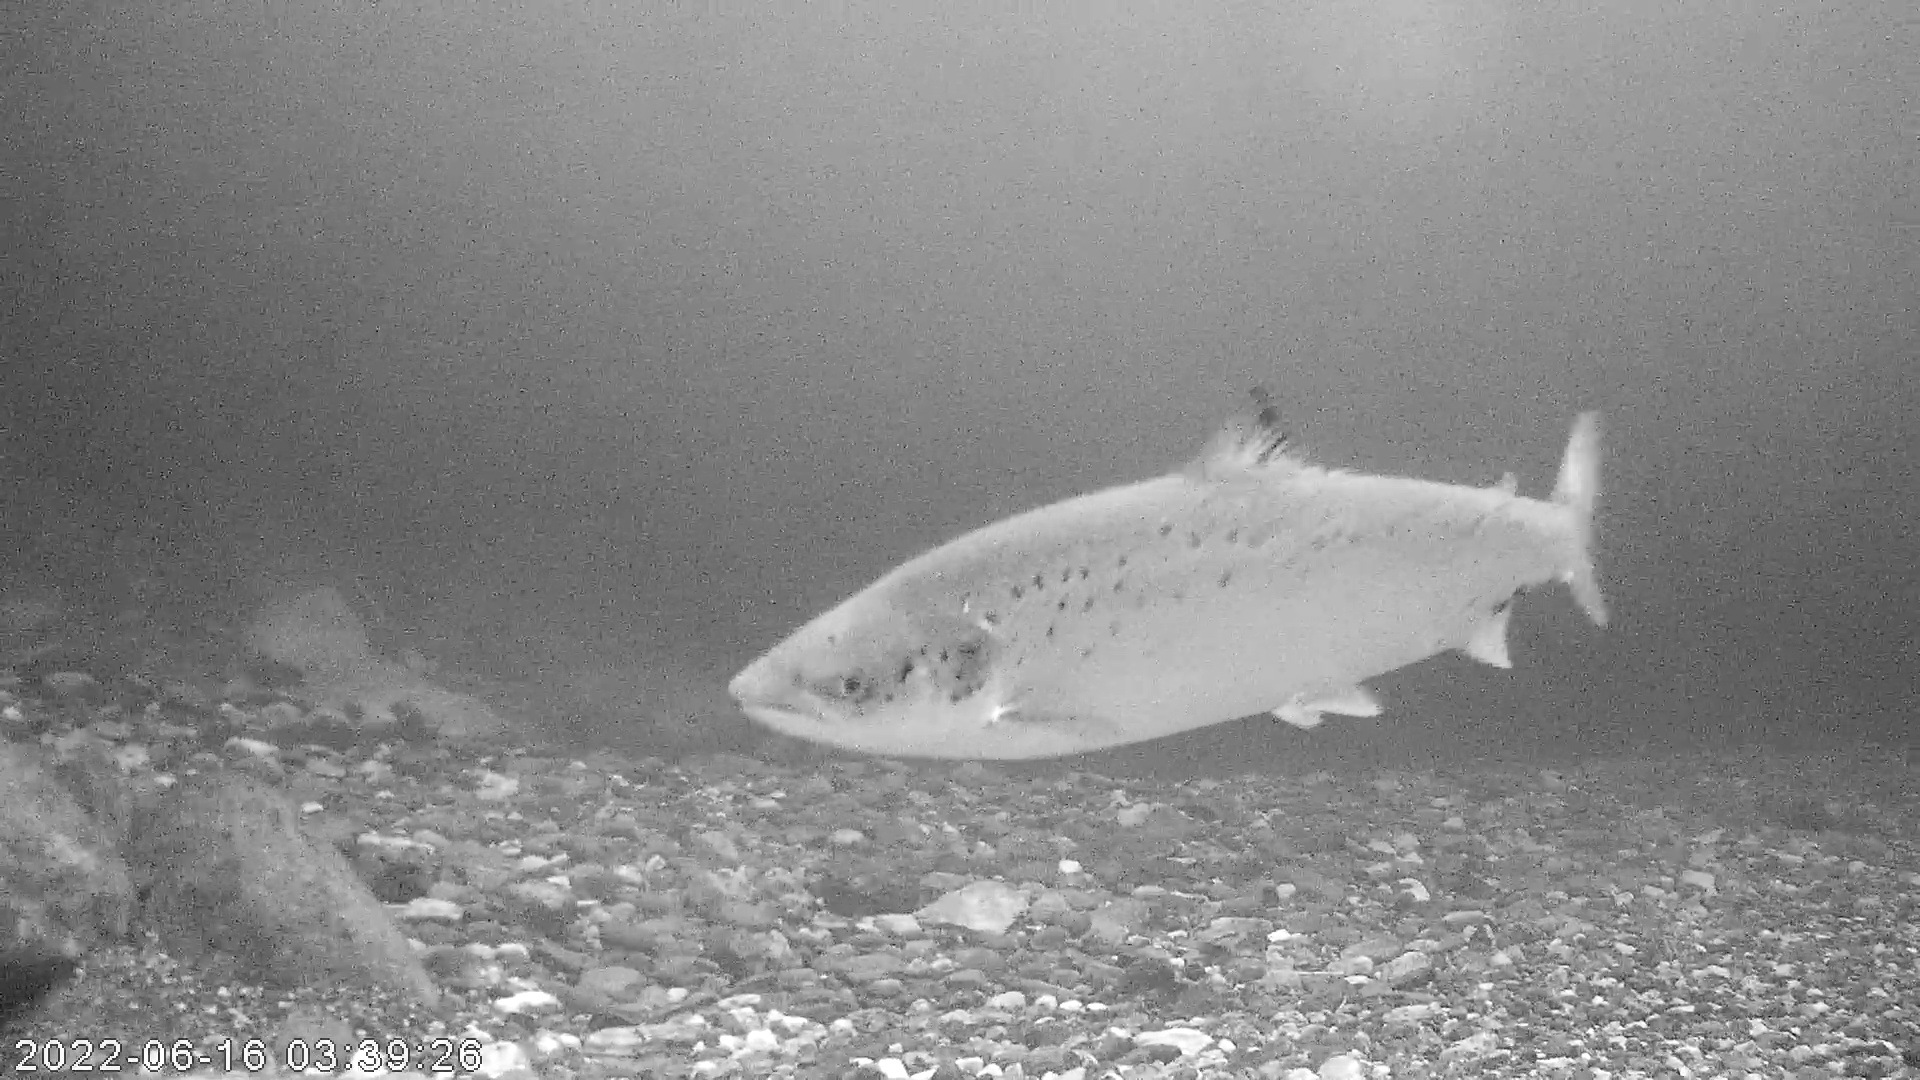salmon: (727, 382, 1615, 764)
